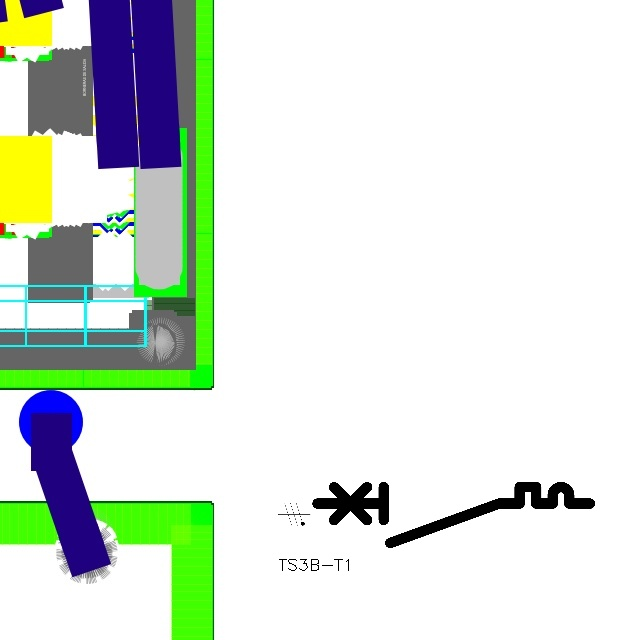interruptor_termomagnetico: (310, 480, 597, 550)
